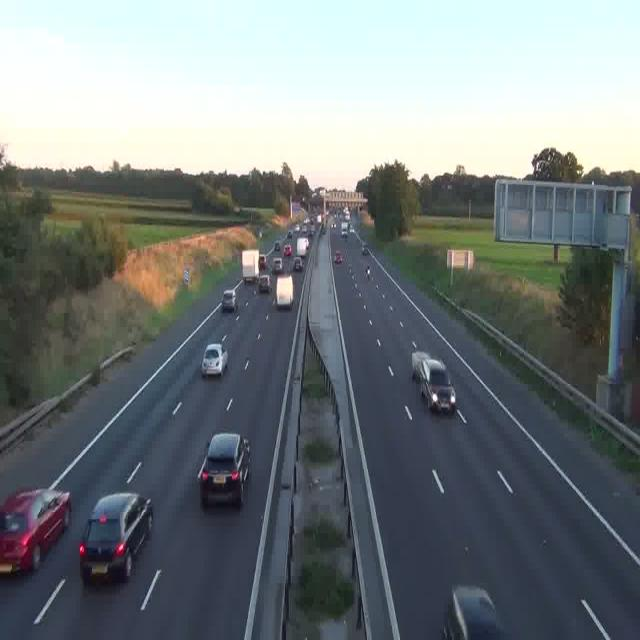car: (78, 492, 154, 584), (0, 489, 71, 574), (200, 433, 250, 508), (443, 586, 507, 639), (412, 352, 456, 413), (200, 344, 228, 378), (222, 288, 238, 312), (271, 257, 283, 275), (291, 256, 303, 272), (334, 250, 344, 263), (284, 244, 292, 258), (362, 244, 370, 256), (284, 229, 291, 242)
truck: (242, 249, 262, 290), (276, 270, 294, 308), (297, 235, 309, 257), (341, 210, 351, 233)
